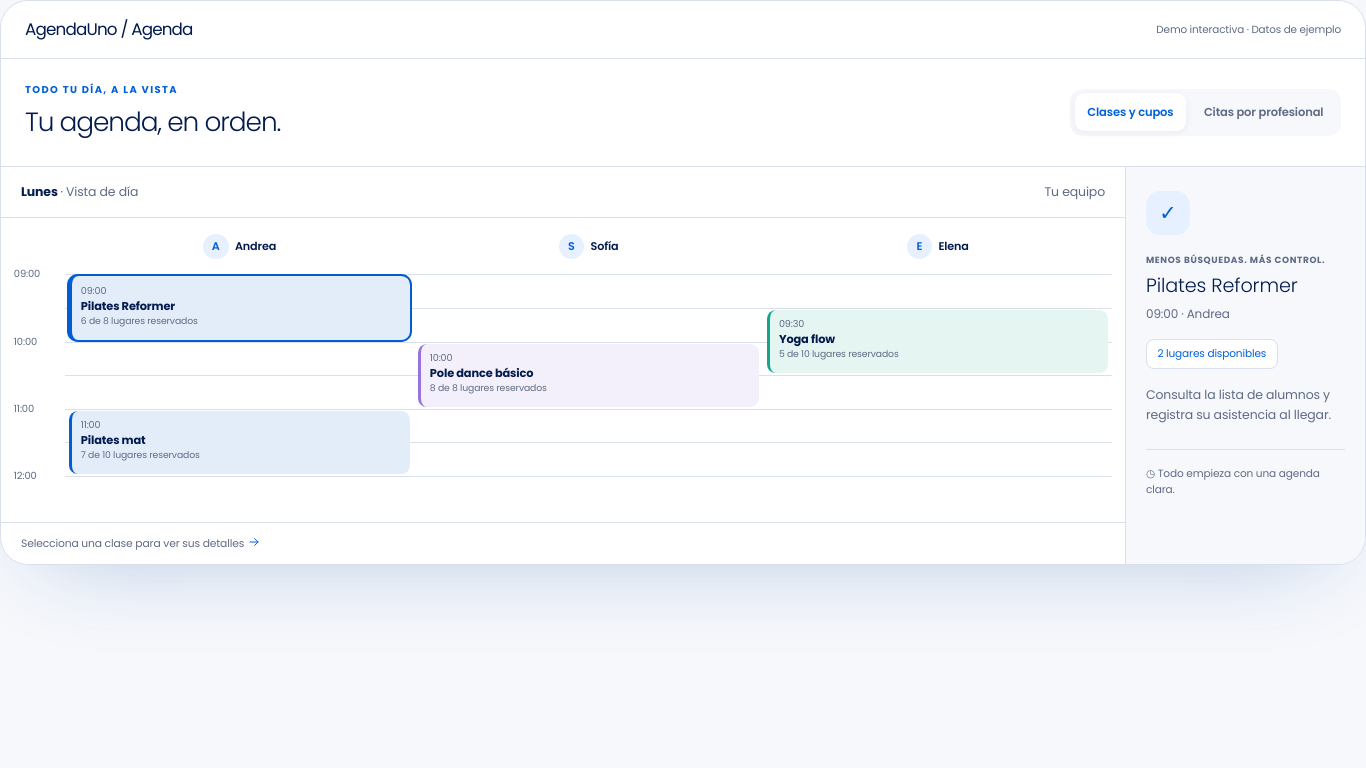
Test: demo de agenda › muestra datos de ejemplo y permite consultar una clase
Expected: the heading "Pilates Reformer" is shown, [1146, 272, 1298, 299]
Step 1. Click the button with class "demo-evento" that starts with "Pole dance básico" → (482, 373), box [418, 344, 759, 407]
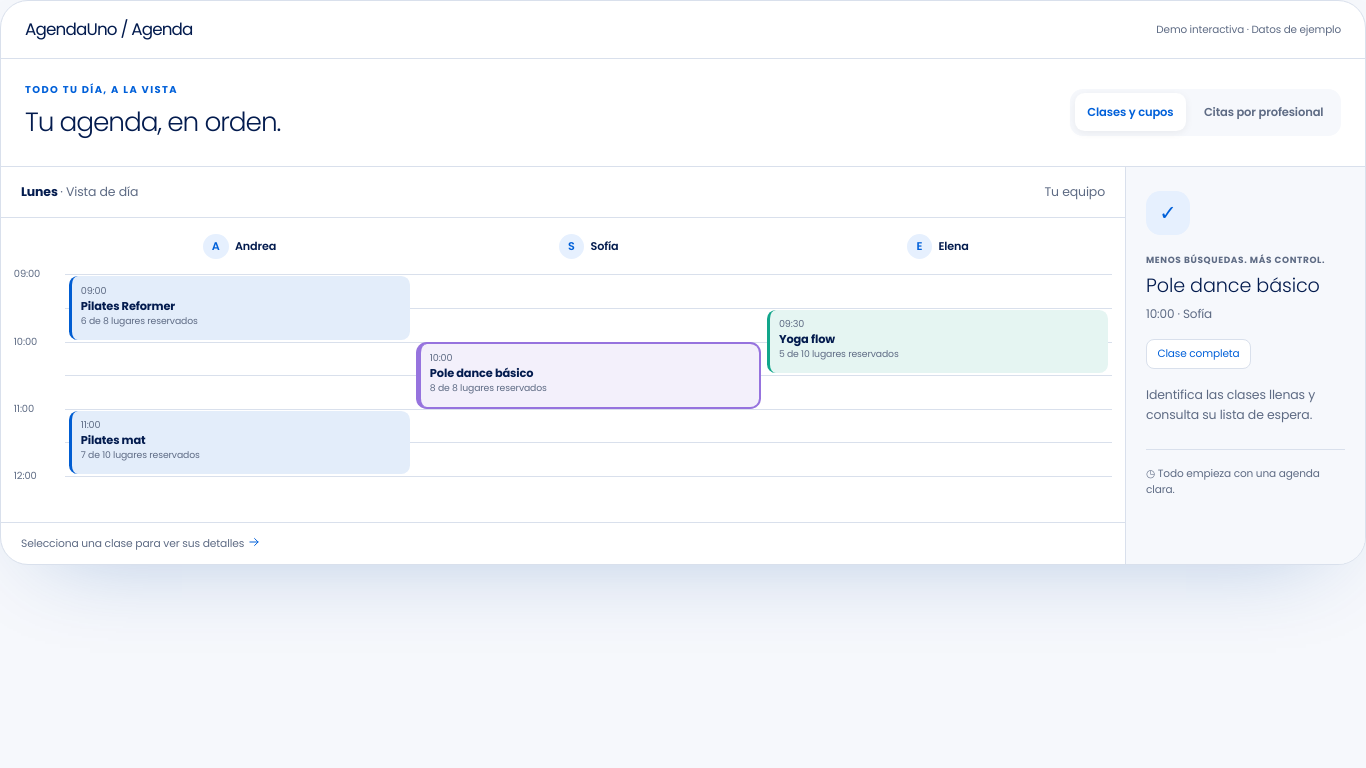
Now the heading "Pole dance básico" is shown, box [1146, 274, 1345, 297]
Now the text with class "demo-estado" reads "Clase completa", box [1157, 346, 1240, 361]
